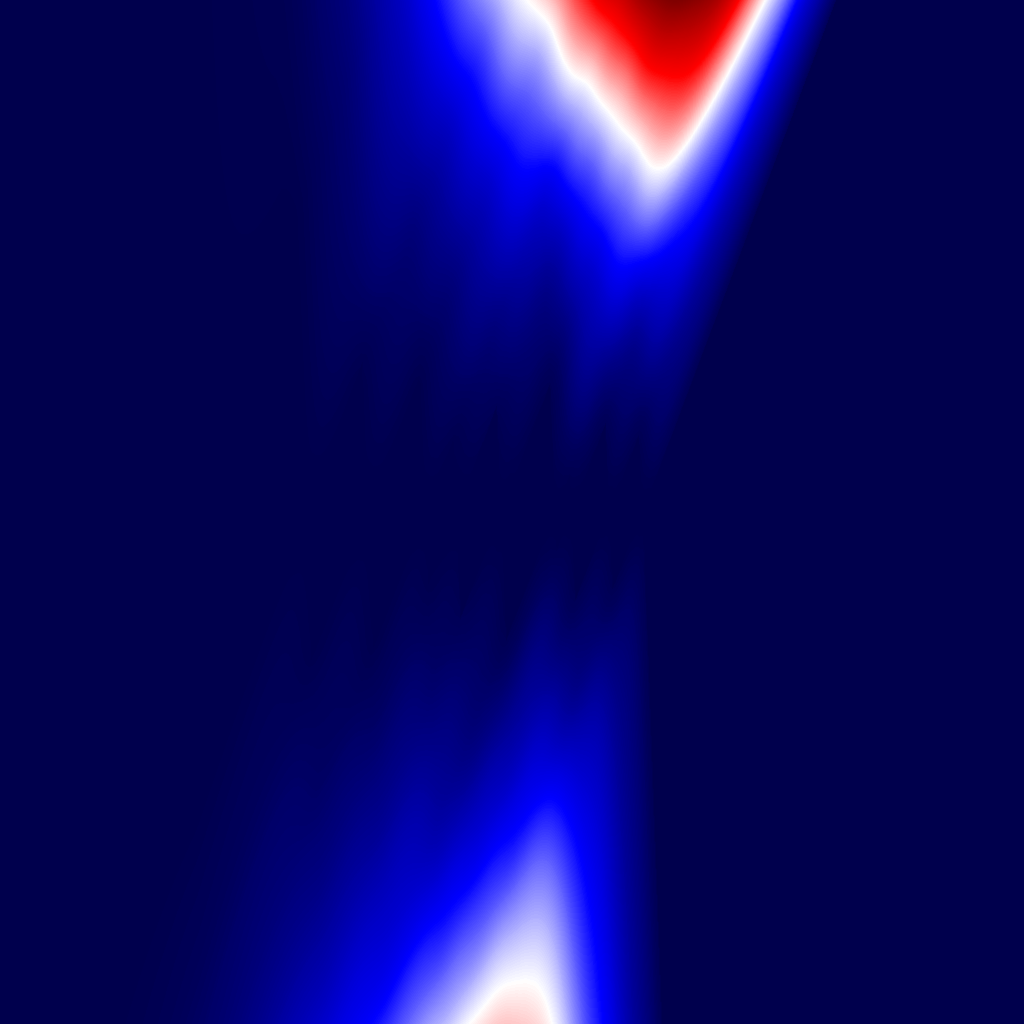diamond: (187, 217, 309, 807), (310, 362, 372, 662), (371, 374, 428, 650), (505, 382, 559, 642), (459, 404, 504, 620), (575, 422, 612, 602), (614, 433, 646, 591), (430, 438, 460, 586), (559, 473, 575, 551)
